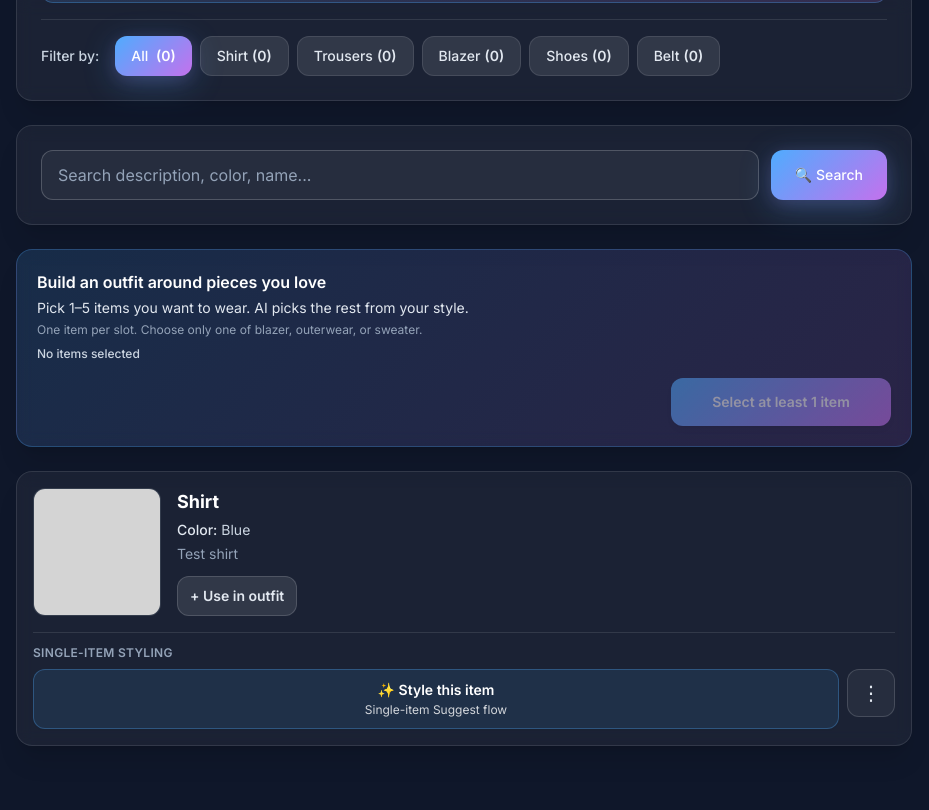
Test: Wardrobe page › shows Past Suggestions in overflow menu and no standalone button on card
(page scrolled)
Click the button "⋮" at [871, 693], box [847,669,895,717]
(page scrolled)
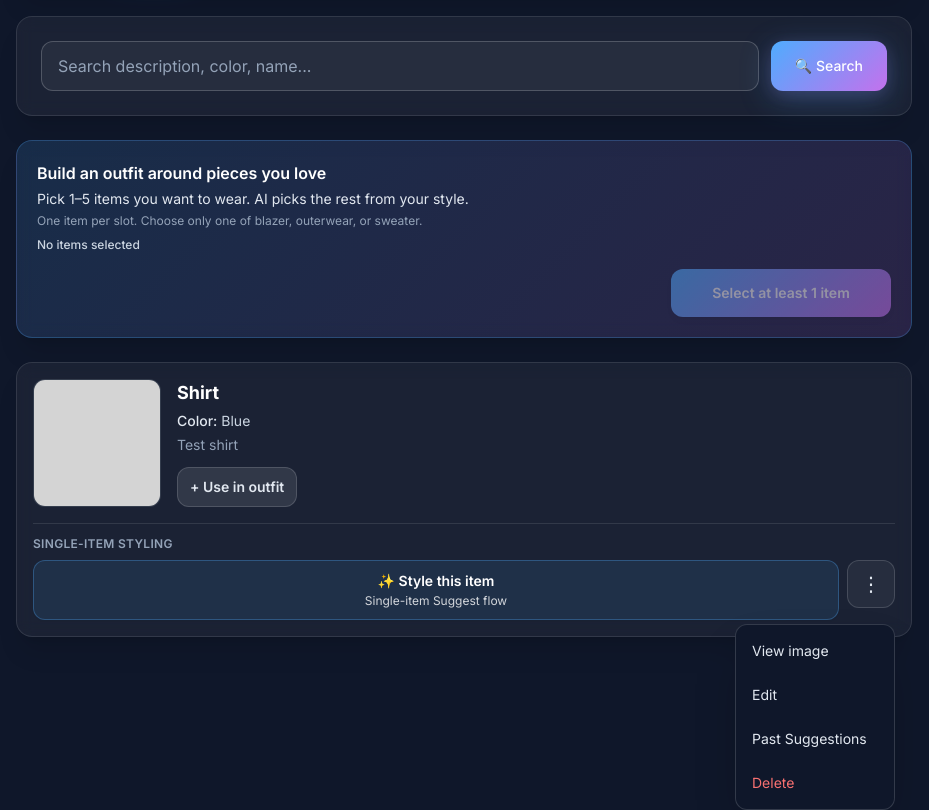
Now the menu item "Past Suggestions" is shown, box [736,717,894,761]
